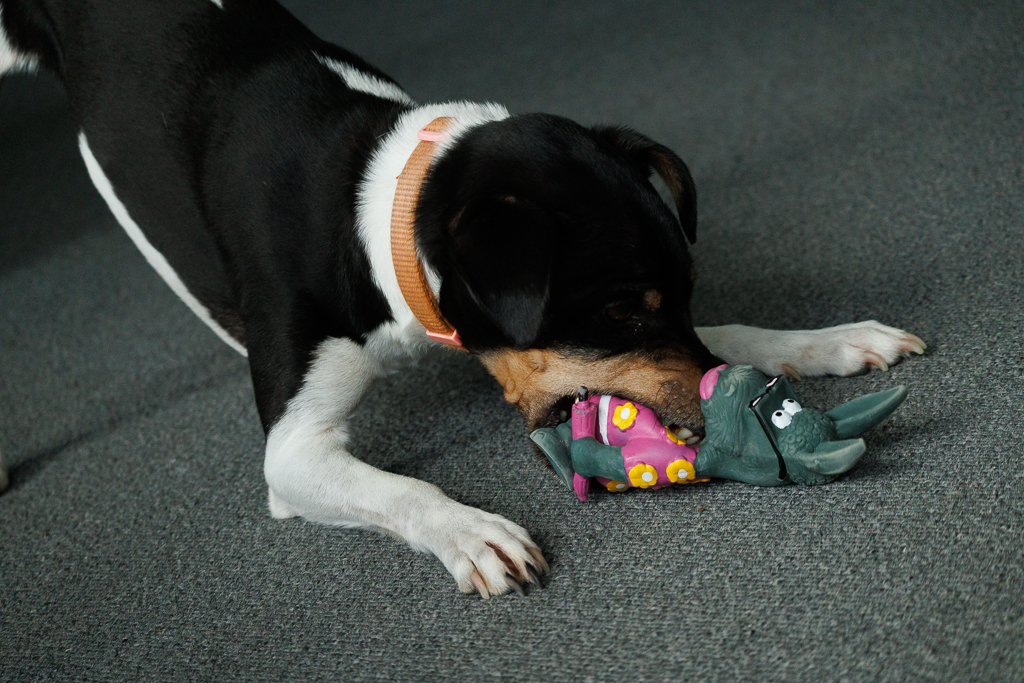Dog: (0, 0, 938, 605)
Humanoid: (515, 334, 918, 516)
